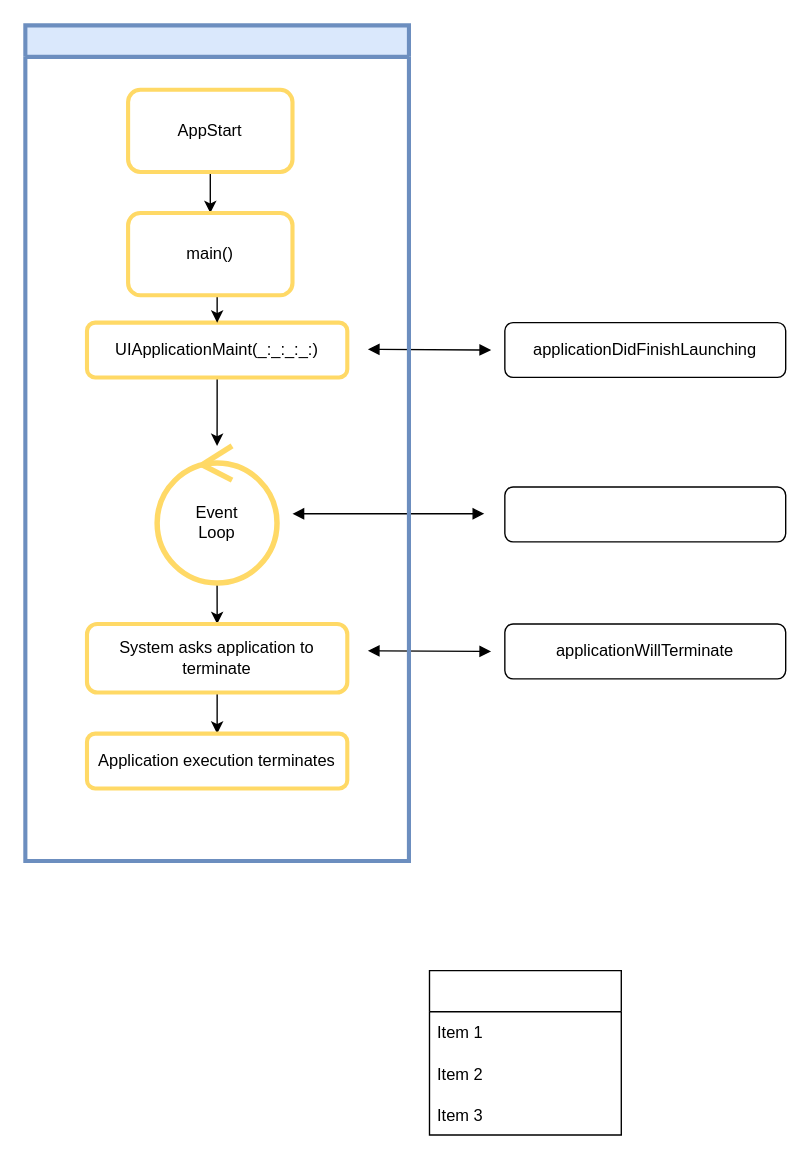
Image size: 810x1159. Some labels were removed from this diagram. Each missing label, with the box of its shape:
Handle event: (503, 486, 786, 542)
UIApplication: (428, 969, 621, 1135)
UIKit: (23, 23, 410, 862)
